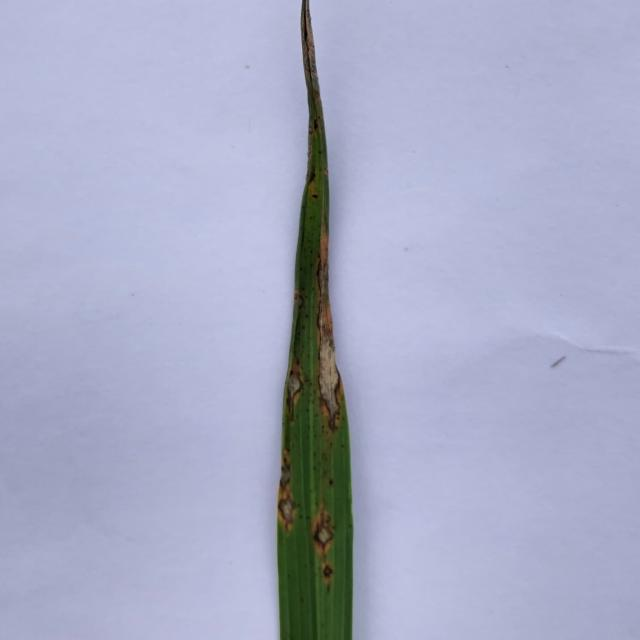leaf blast: (314, 257, 350, 435), (309, 513, 339, 556), (276, 488, 300, 530), (286, 369, 306, 402), (318, 562, 338, 582)
